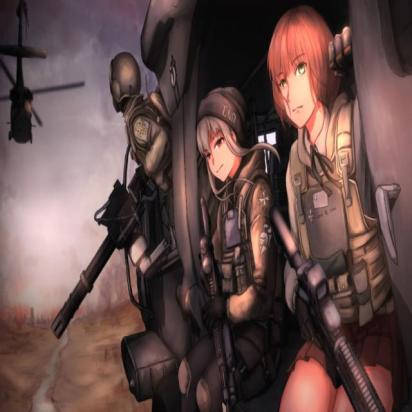Gun: (266, 204, 386, 412), (195, 194, 242, 412)
